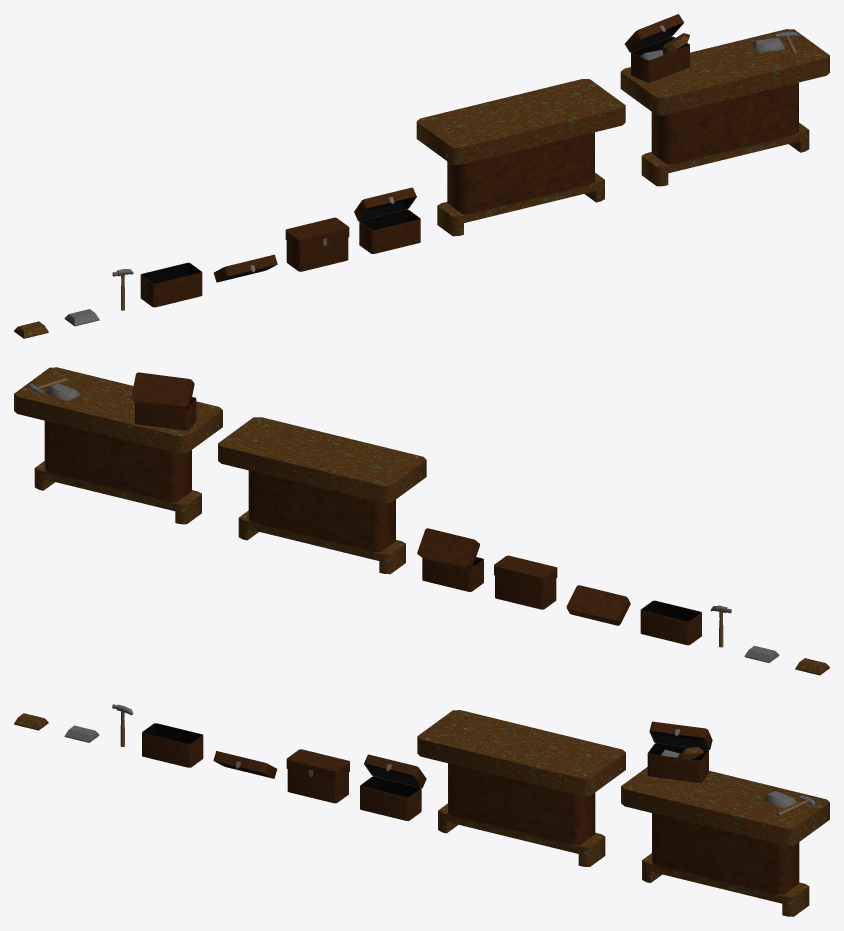
The model's file is CraftingTable.fbx.
3 renders of one model, top to bottom at view 1: azimuth 30°, elevation 25°; view 2: azimuth 150°, elevation 25°; view 3: azimuth 330°, elevation 25°, orthographic.
Parts seen in each view (by area): view 1: CraftingTable, CraftingTableEmpty, MiniBoxOpened, MiniBoxBaseClosed, MiniBoxBase, MiniBoxCover; view 2: CraftingTable, CraftingTableEmpty, MiniBoxOpened, MiniBoxBaseClosed, MiniBoxBase, MiniBoxCover; view 3: CraftingTable, CraftingTableEmpty, MiniBoxOpened, MiniBoxBaseClosed, MiniBoxBase, MiniBoxCover.
Part boxes in pixels (x1=…): CraftingTable: x1=620, y1=14, x2=829, y2=186; CraftingTableEmpty: x1=416, y1=79, x2=625, y2=236; MiniBoxOpened: x1=354, y1=187, x2=420, y2=253; MiniBoxBaseClosed: x1=285, y1=217, x2=349, y2=271; MiniBoxBase: x1=140, y1=262, x2=202, y2=307; MiniBoxCover: x1=214, y1=254, x2=277, y2=282; CraftingTable: x1=14, y1=367, x2=222, y2=524; CraftingTableEmpty: x1=218, y1=417, x2=426, y2=574; MiniBoxOpened: x1=417, y1=528, x2=483, y2=591; MiniBoxBaseClosed: x1=494, y1=555, x2=557, y2=609; MiniBoxBase: x1=640, y1=600, x2=701, y2=645; MiniBoxCover: x1=566, y1=585, x2=630, y2=625; CraftingTable: x1=621, y1=721, x2=829, y2=916; CraftingTableEmpty: x1=417, y1=710, x2=625, y2=866; MiniBoxOpened: x1=360, y1=754, x2=426, y2=820; MiniBoxBaseClosed: x1=286, y1=749, x2=349, y2=803; MiniBoxBase: x1=142, y1=723, x2=203, y2=767; MiniBoxCover: x1=213, y1=751, x2=277, y2=778.
Size of the model in its own units: 12.6 by 2.22 by 1.17.
